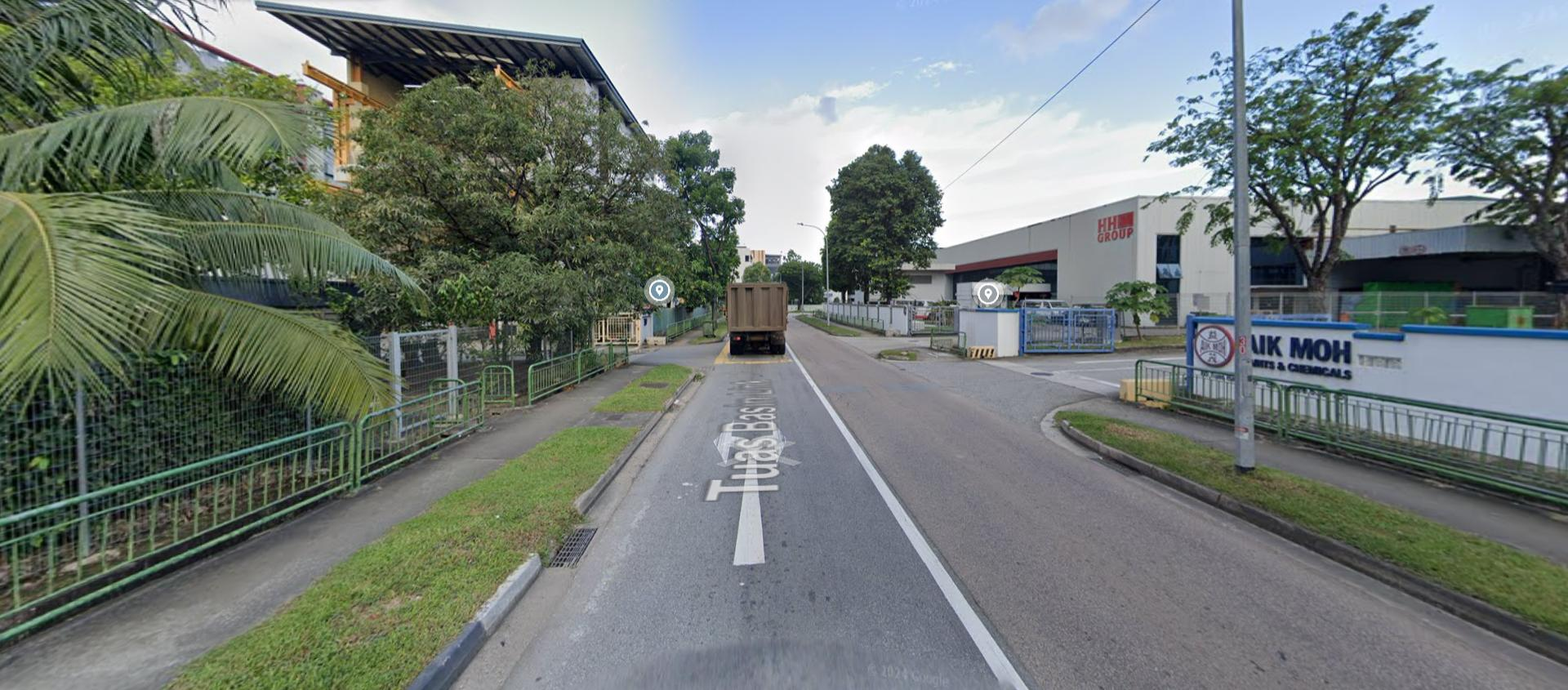defect: (549, 528, 600, 567)
